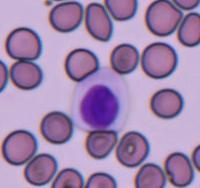L: (70, 70, 130, 132)
